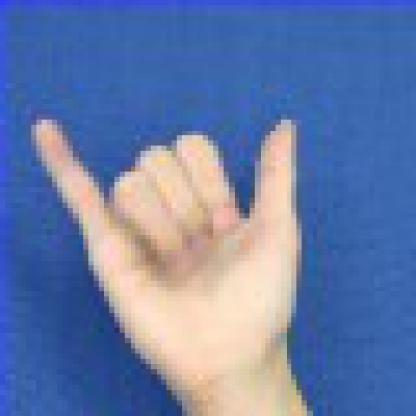six: (24, 89, 339, 411)
